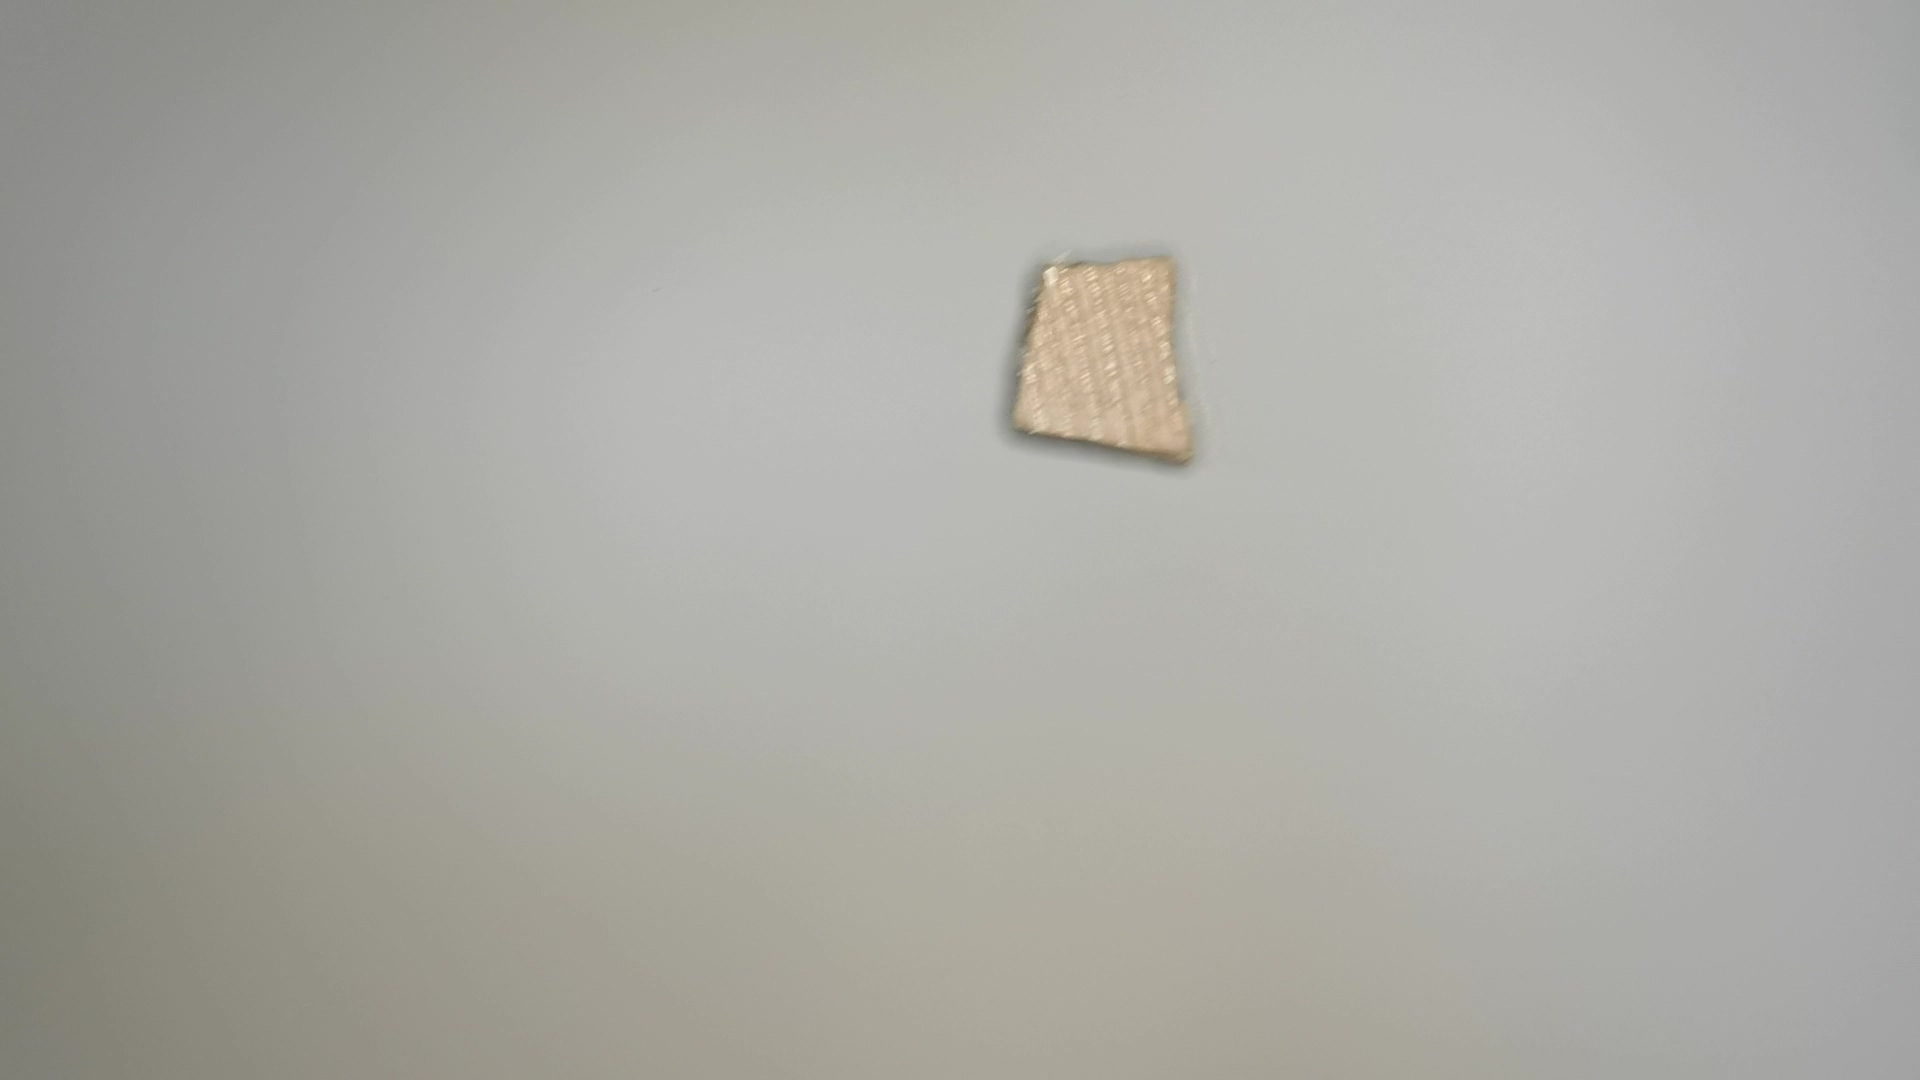ceramic: (1000, 248, 1217, 475)
